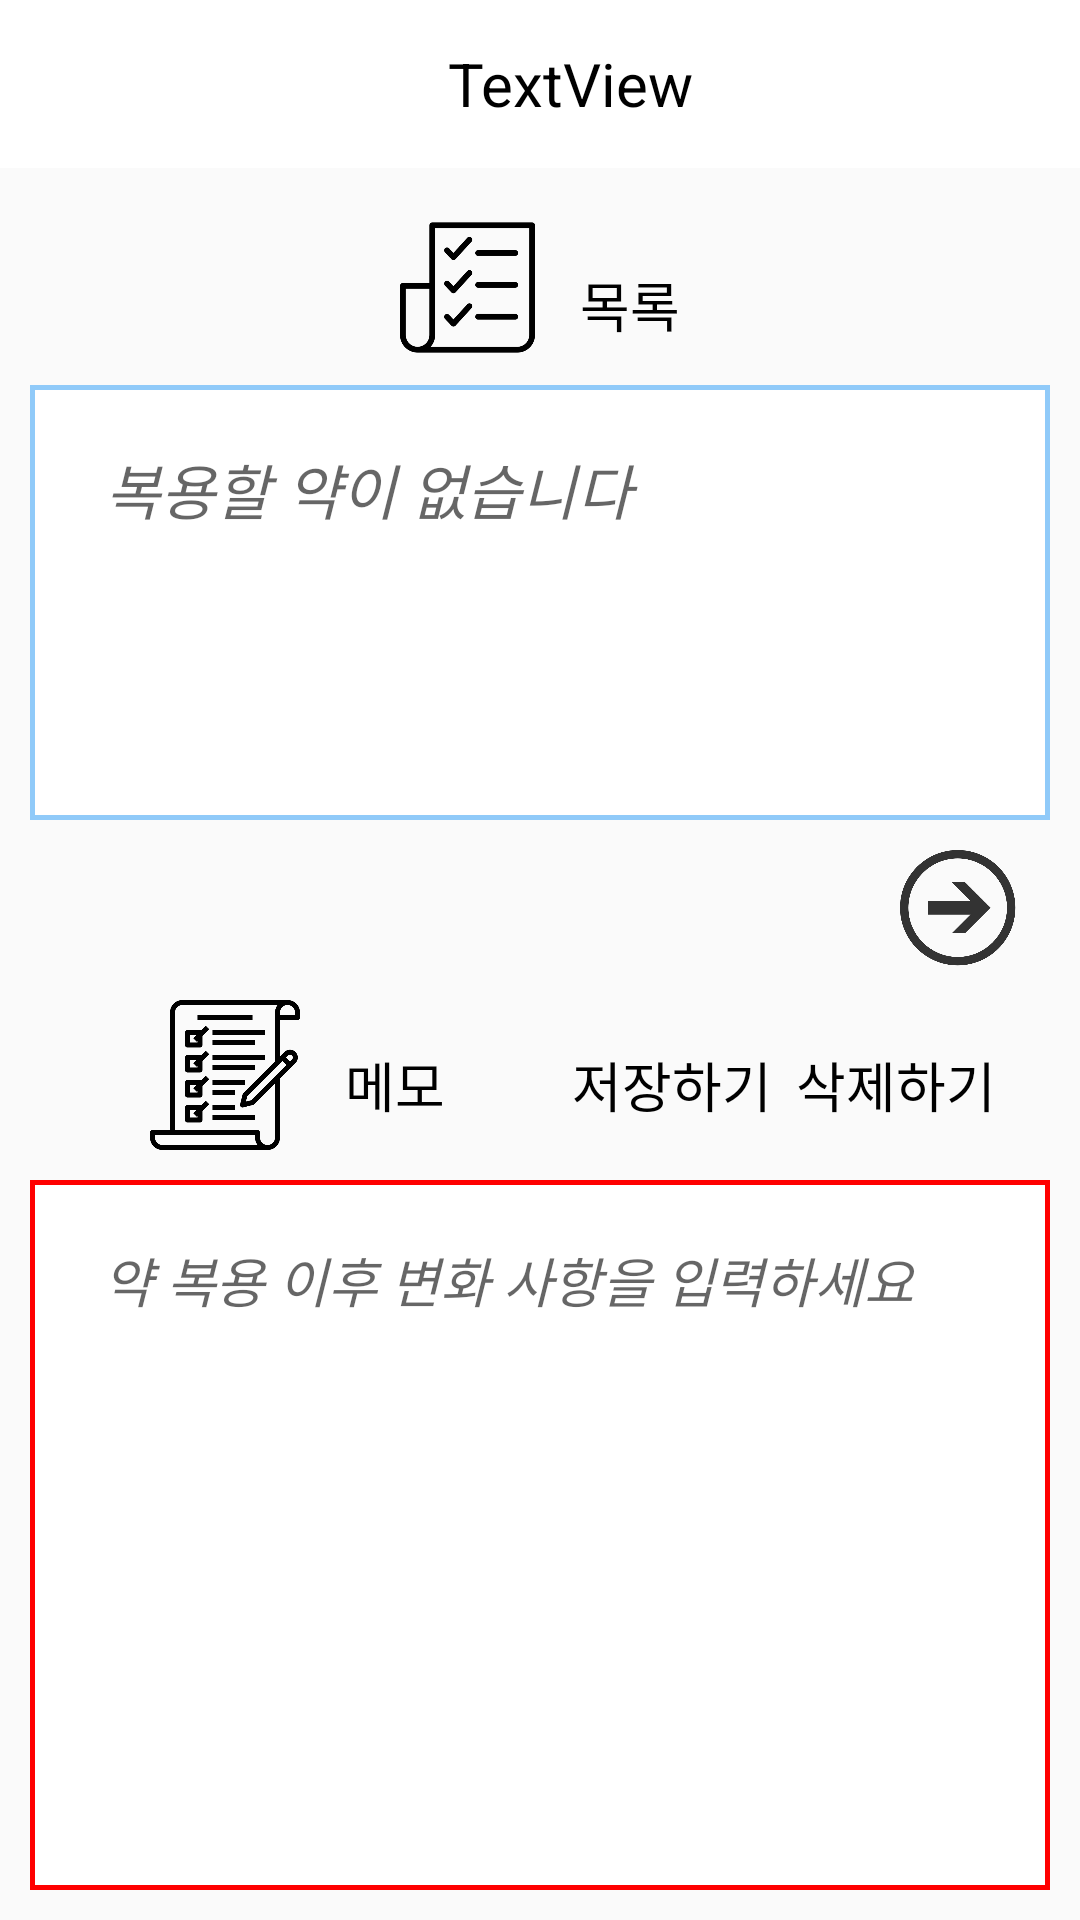

Icons on this 1080px x 1920px Android screen, each with its box as (x1=x1, y1=y1, x2=x2, y2=y2):
list: (x1=400, y1=222, x2=535, y2=353)
memo: (x1=150, y1=1000, x2=300, y2=1150)
right: (x1=900, y1=850, x2=1016, y2=966)
